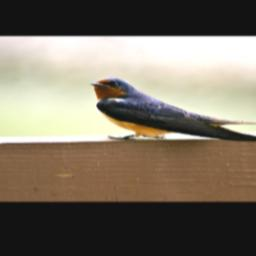Swallow: (88, 76, 256, 143)
